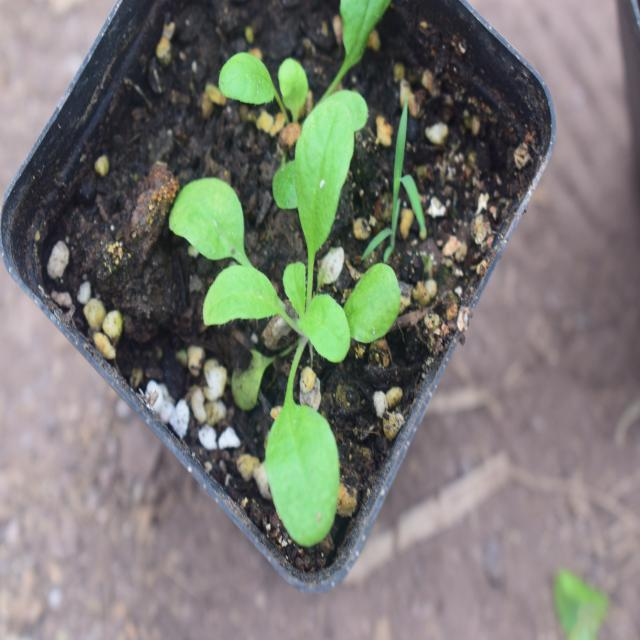Shepherd_Purse: (170, 98, 370, 550)
